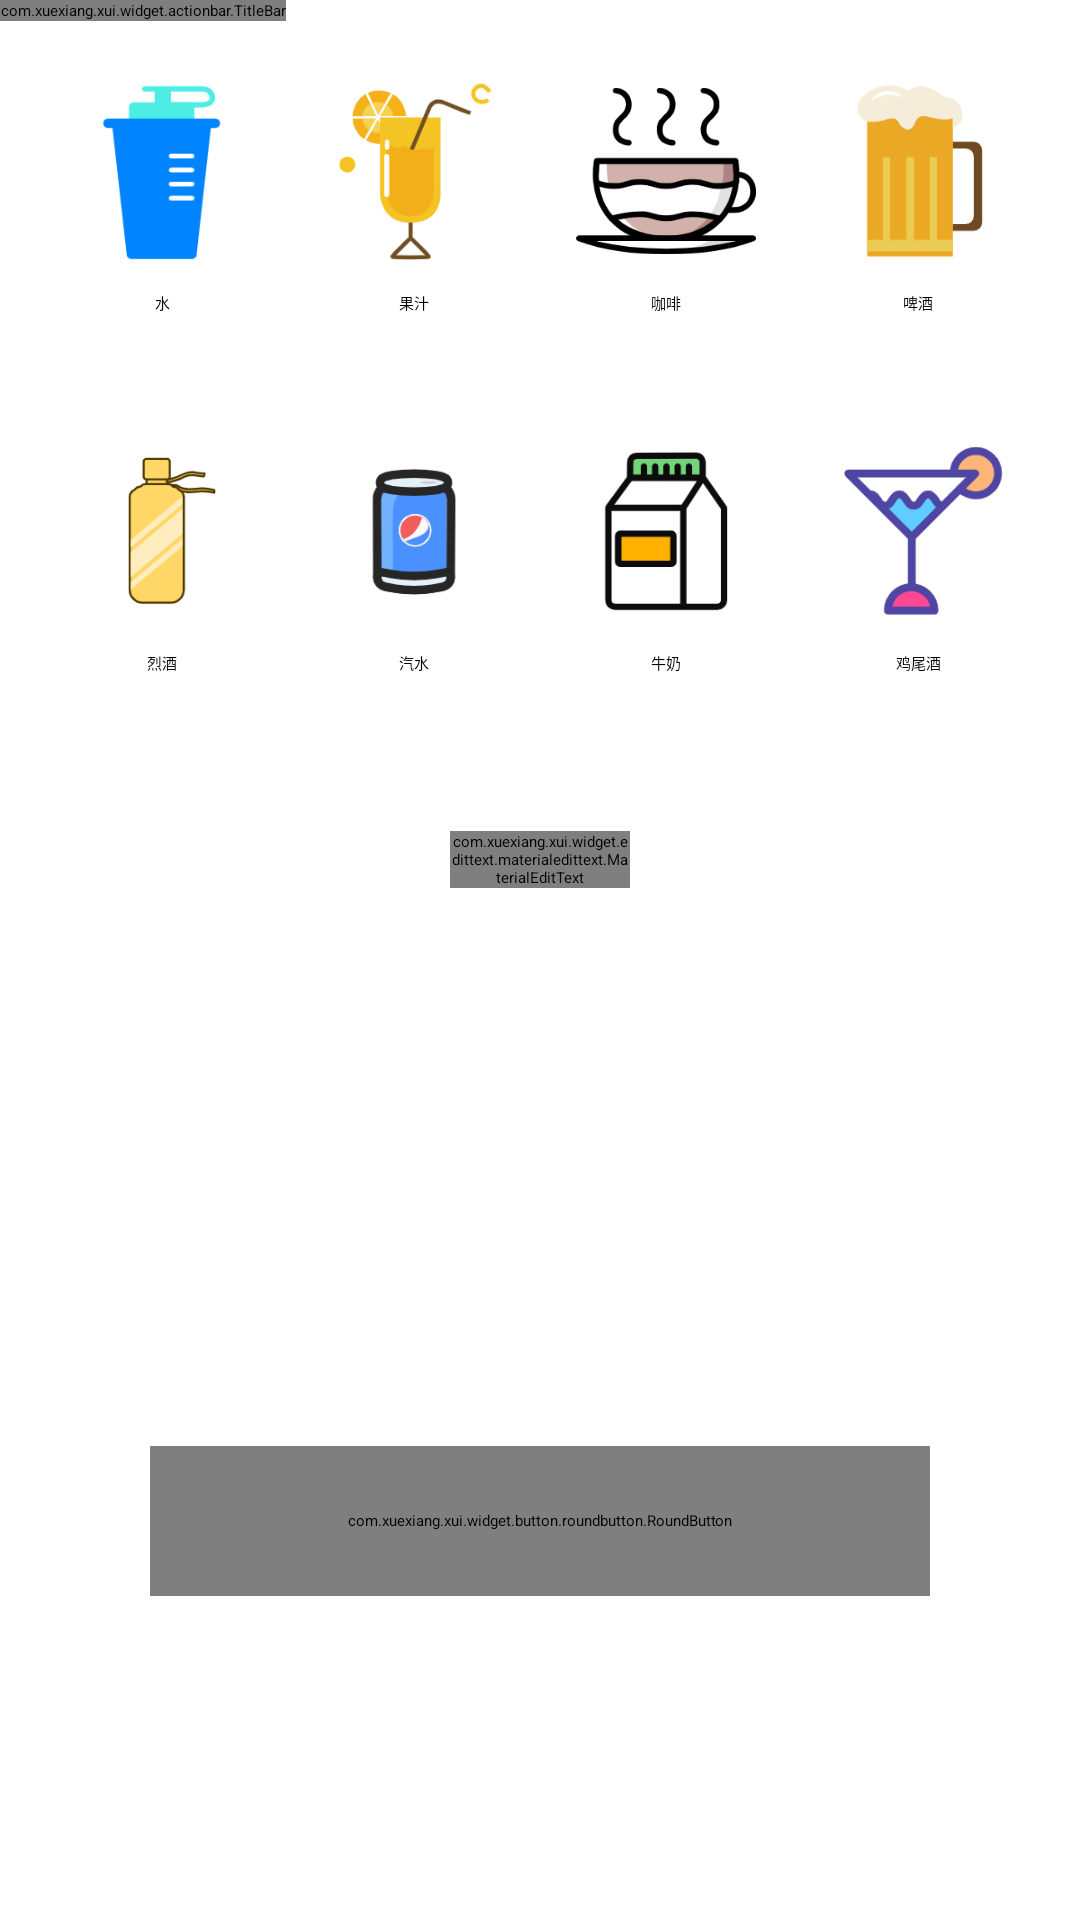

Icons on this 1080px x 1920px Android screen, each with the point to tap as (x=x, y=y):
glass: (x=162, y=173)
